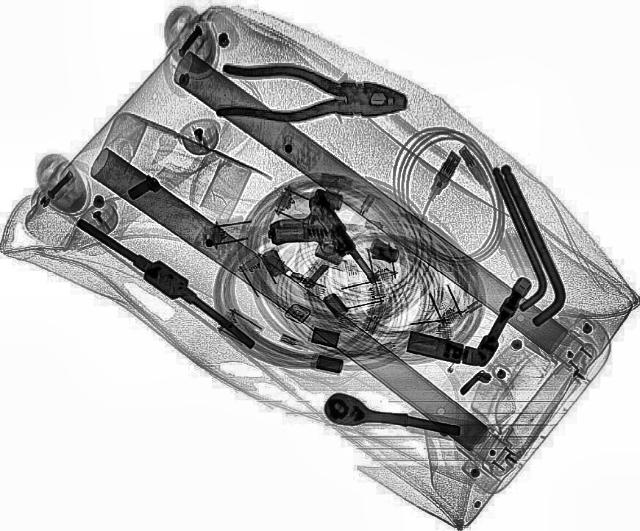Gun: (252, 188, 382, 306)
Pliers: (214, 60, 410, 128)
